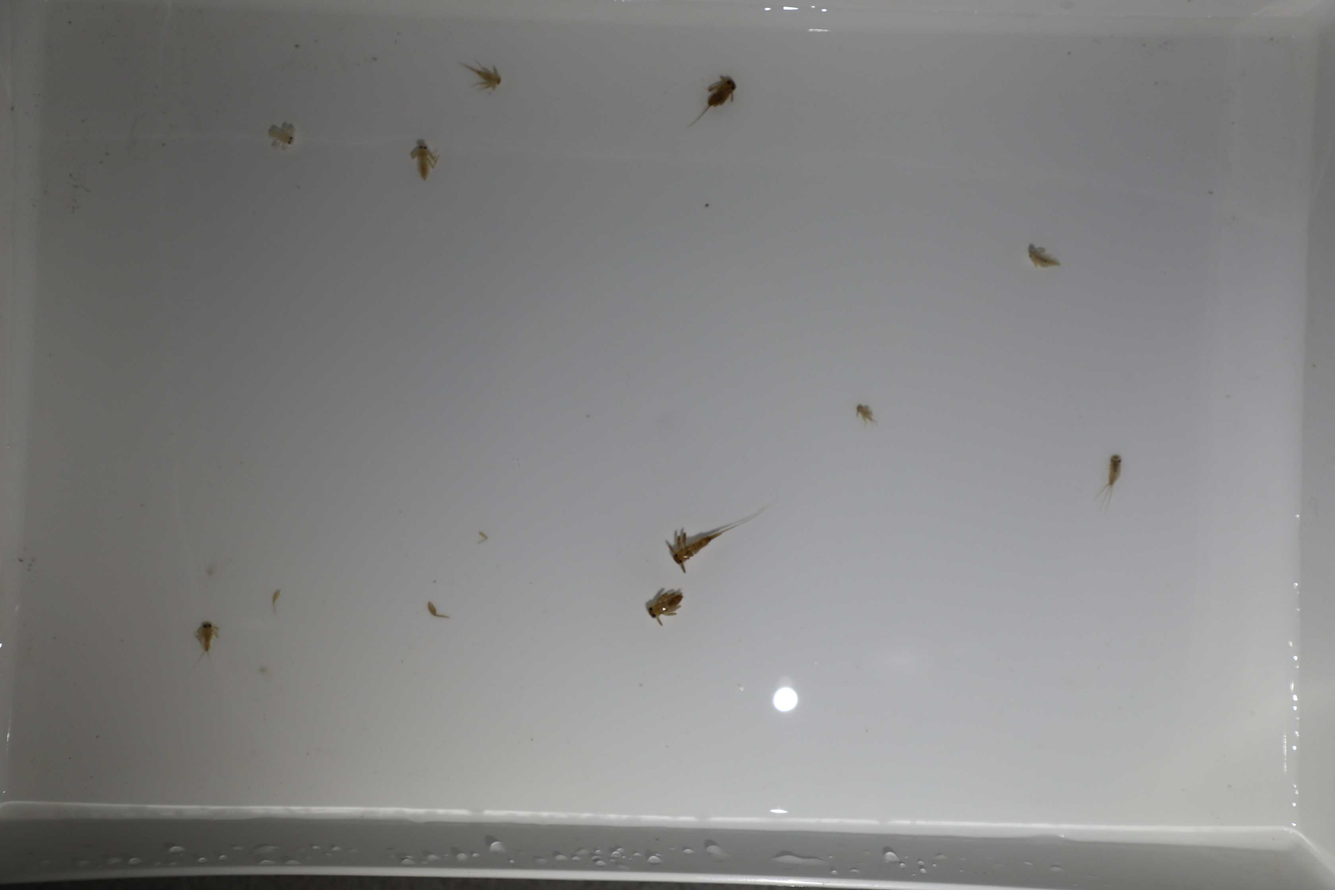Mayfly: (654, 504, 768, 578), (684, 68, 738, 134), (1091, 446, 1131, 512), (400, 132, 441, 195), (641, 586, 694, 626), (451, 59, 510, 94), (259, 117, 305, 160), (1022, 241, 1075, 274), (192, 618, 223, 670), (844, 400, 883, 428)
